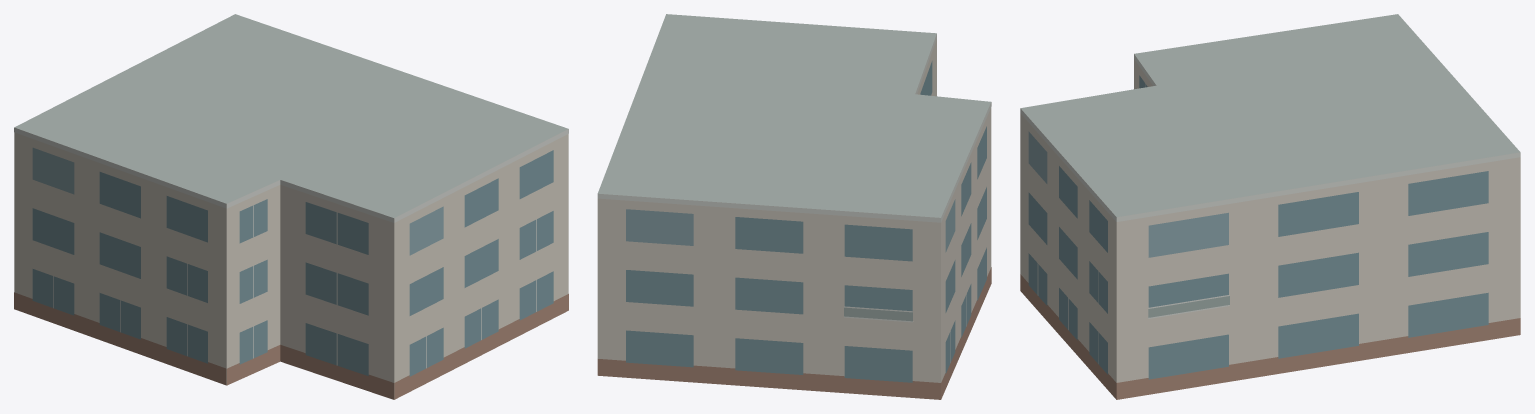
Rendered from survey-upis-32849891.glb.
The picture shows the model from 3 angles, left to right: view 1: azimuth 30°, elevation 25°; view 2: azimuth 150°, elevation 25°; view 3: azimuth 270°, elevation 25°; orthographic projection.
Parts seen in each view (by area): view 1: survey-upis-32849891.tmp; view 2: survey-upis-32849891.tmp; view 3: survey-upis-32849891.tmp.
Boxes of the visible parts, x1,y1,x2,y2 form: survey-upis-32849891.tmp: [14, 14, 568, 399]; survey-upis-32849891.tmp: [597, 14, 991, 399]; survey-upis-32849891.tmp: [1020, 14, 1520, 399].
Bounding box in the file's own units: 21.85 × 9.15 × 22.73.
